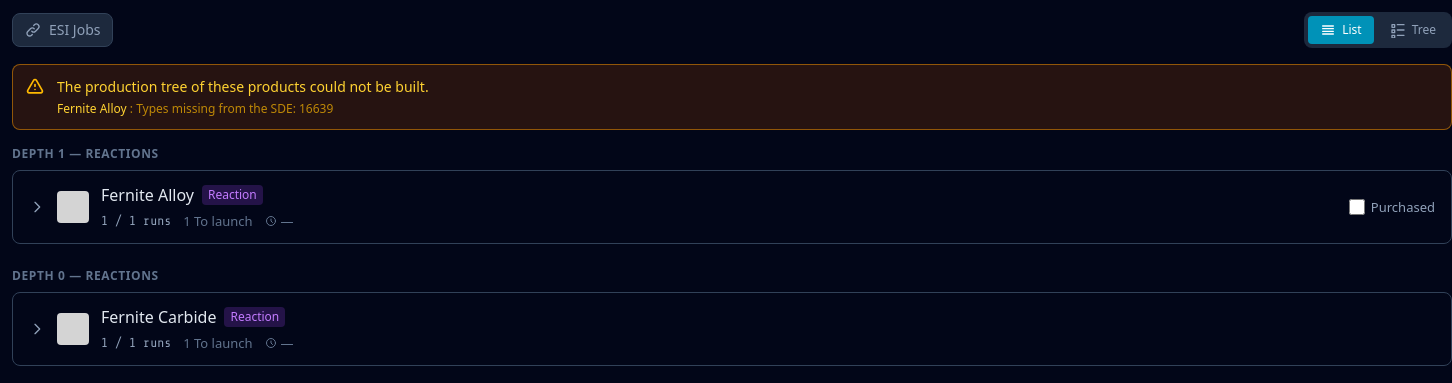
Test case: StepsTab failed products › warns about a failed product above the unavailable tree in the hierarchy view
This screenshot has width=1452, height=383.
What coordinates should you click on to do the following:
click the button "Tree"
I would click on:
 (1413, 30)
Its box is x1=1378 y1=16 x2=1448 y2=44.
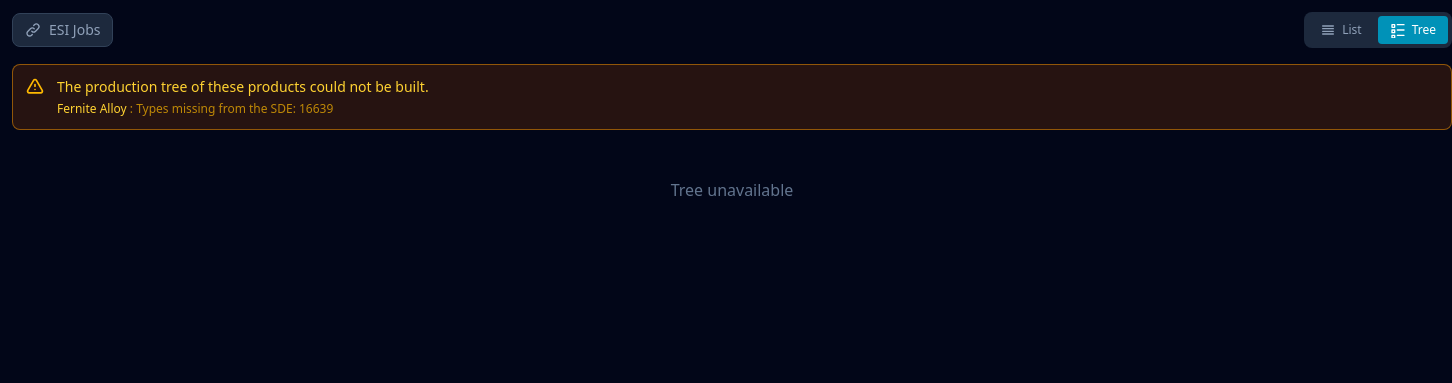
Expected: the number of elements with test id "failed-products-warning" is 1, x1=12 y1=64 x2=1451 y2=130
Result: the text "Tree unavailable" is shown at x1=671 y1=179 x2=793 y2=201
